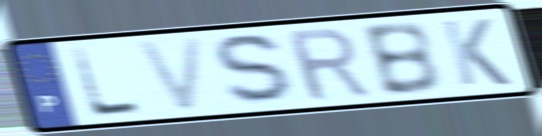B: (357, 18, 445, 99)
K: (438, 16, 515, 89)
L: (68, 45, 146, 119)
R: (282, 25, 376, 105)
S: (211, 31, 304, 109)
V: (132, 33, 207, 116)
